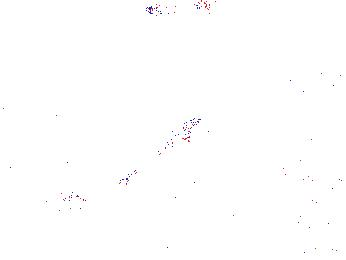glassfish: (106, 117, 205, 193)
red belly glassfish: (324, 73, 346, 94)
redtail glassfish: (141, 1, 209, 16)
